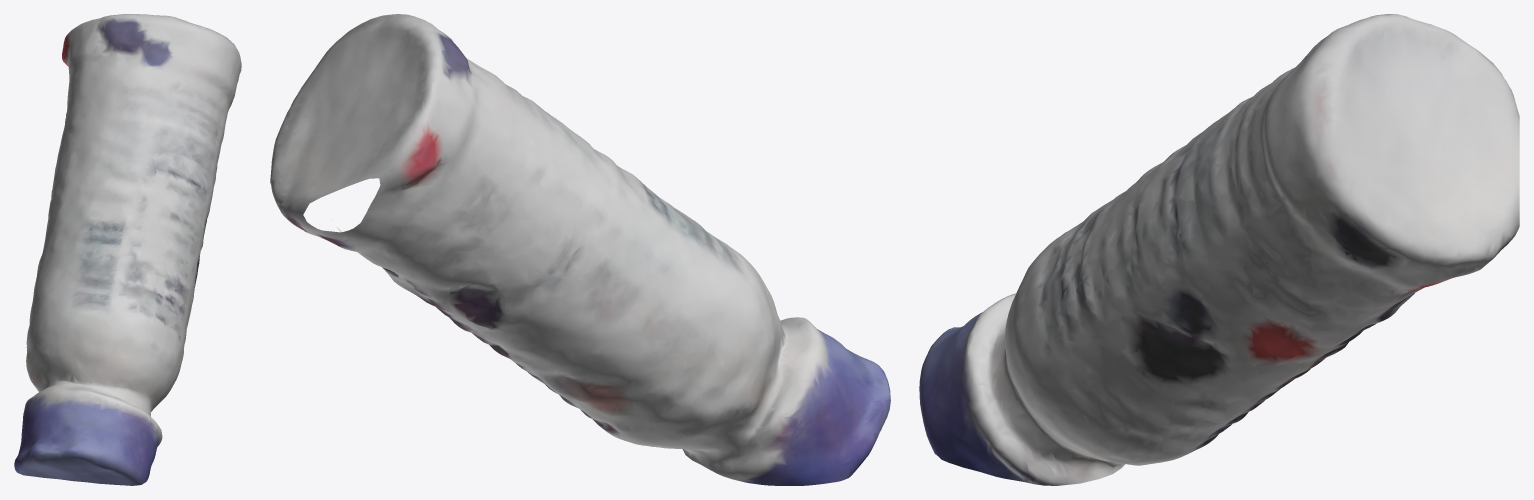
The picture shows the model from 3 angles, left to right: view 1: azimuth 30°, elevation 25°; view 2: azimuth 150°, elevation 25°; view 3: azimuth 270°, elevation 25°; orthographic projection. The views are drawn at different scales.
Parts seen in each view (by area): view 1: geometry_0; view 2: geometry_0; view 3: geometry_0.
Part boxes in pixels (x1=…): geometry_0: x1=14, y1=14, x2=241, y2=485; geometry_0: x1=270, y1=14, x2=890, y2=485; geometry_0: x1=919, y1=14, x2=1519, y2=485.
Size of the model in its own units: 1.95 by 1.97 by 2.
